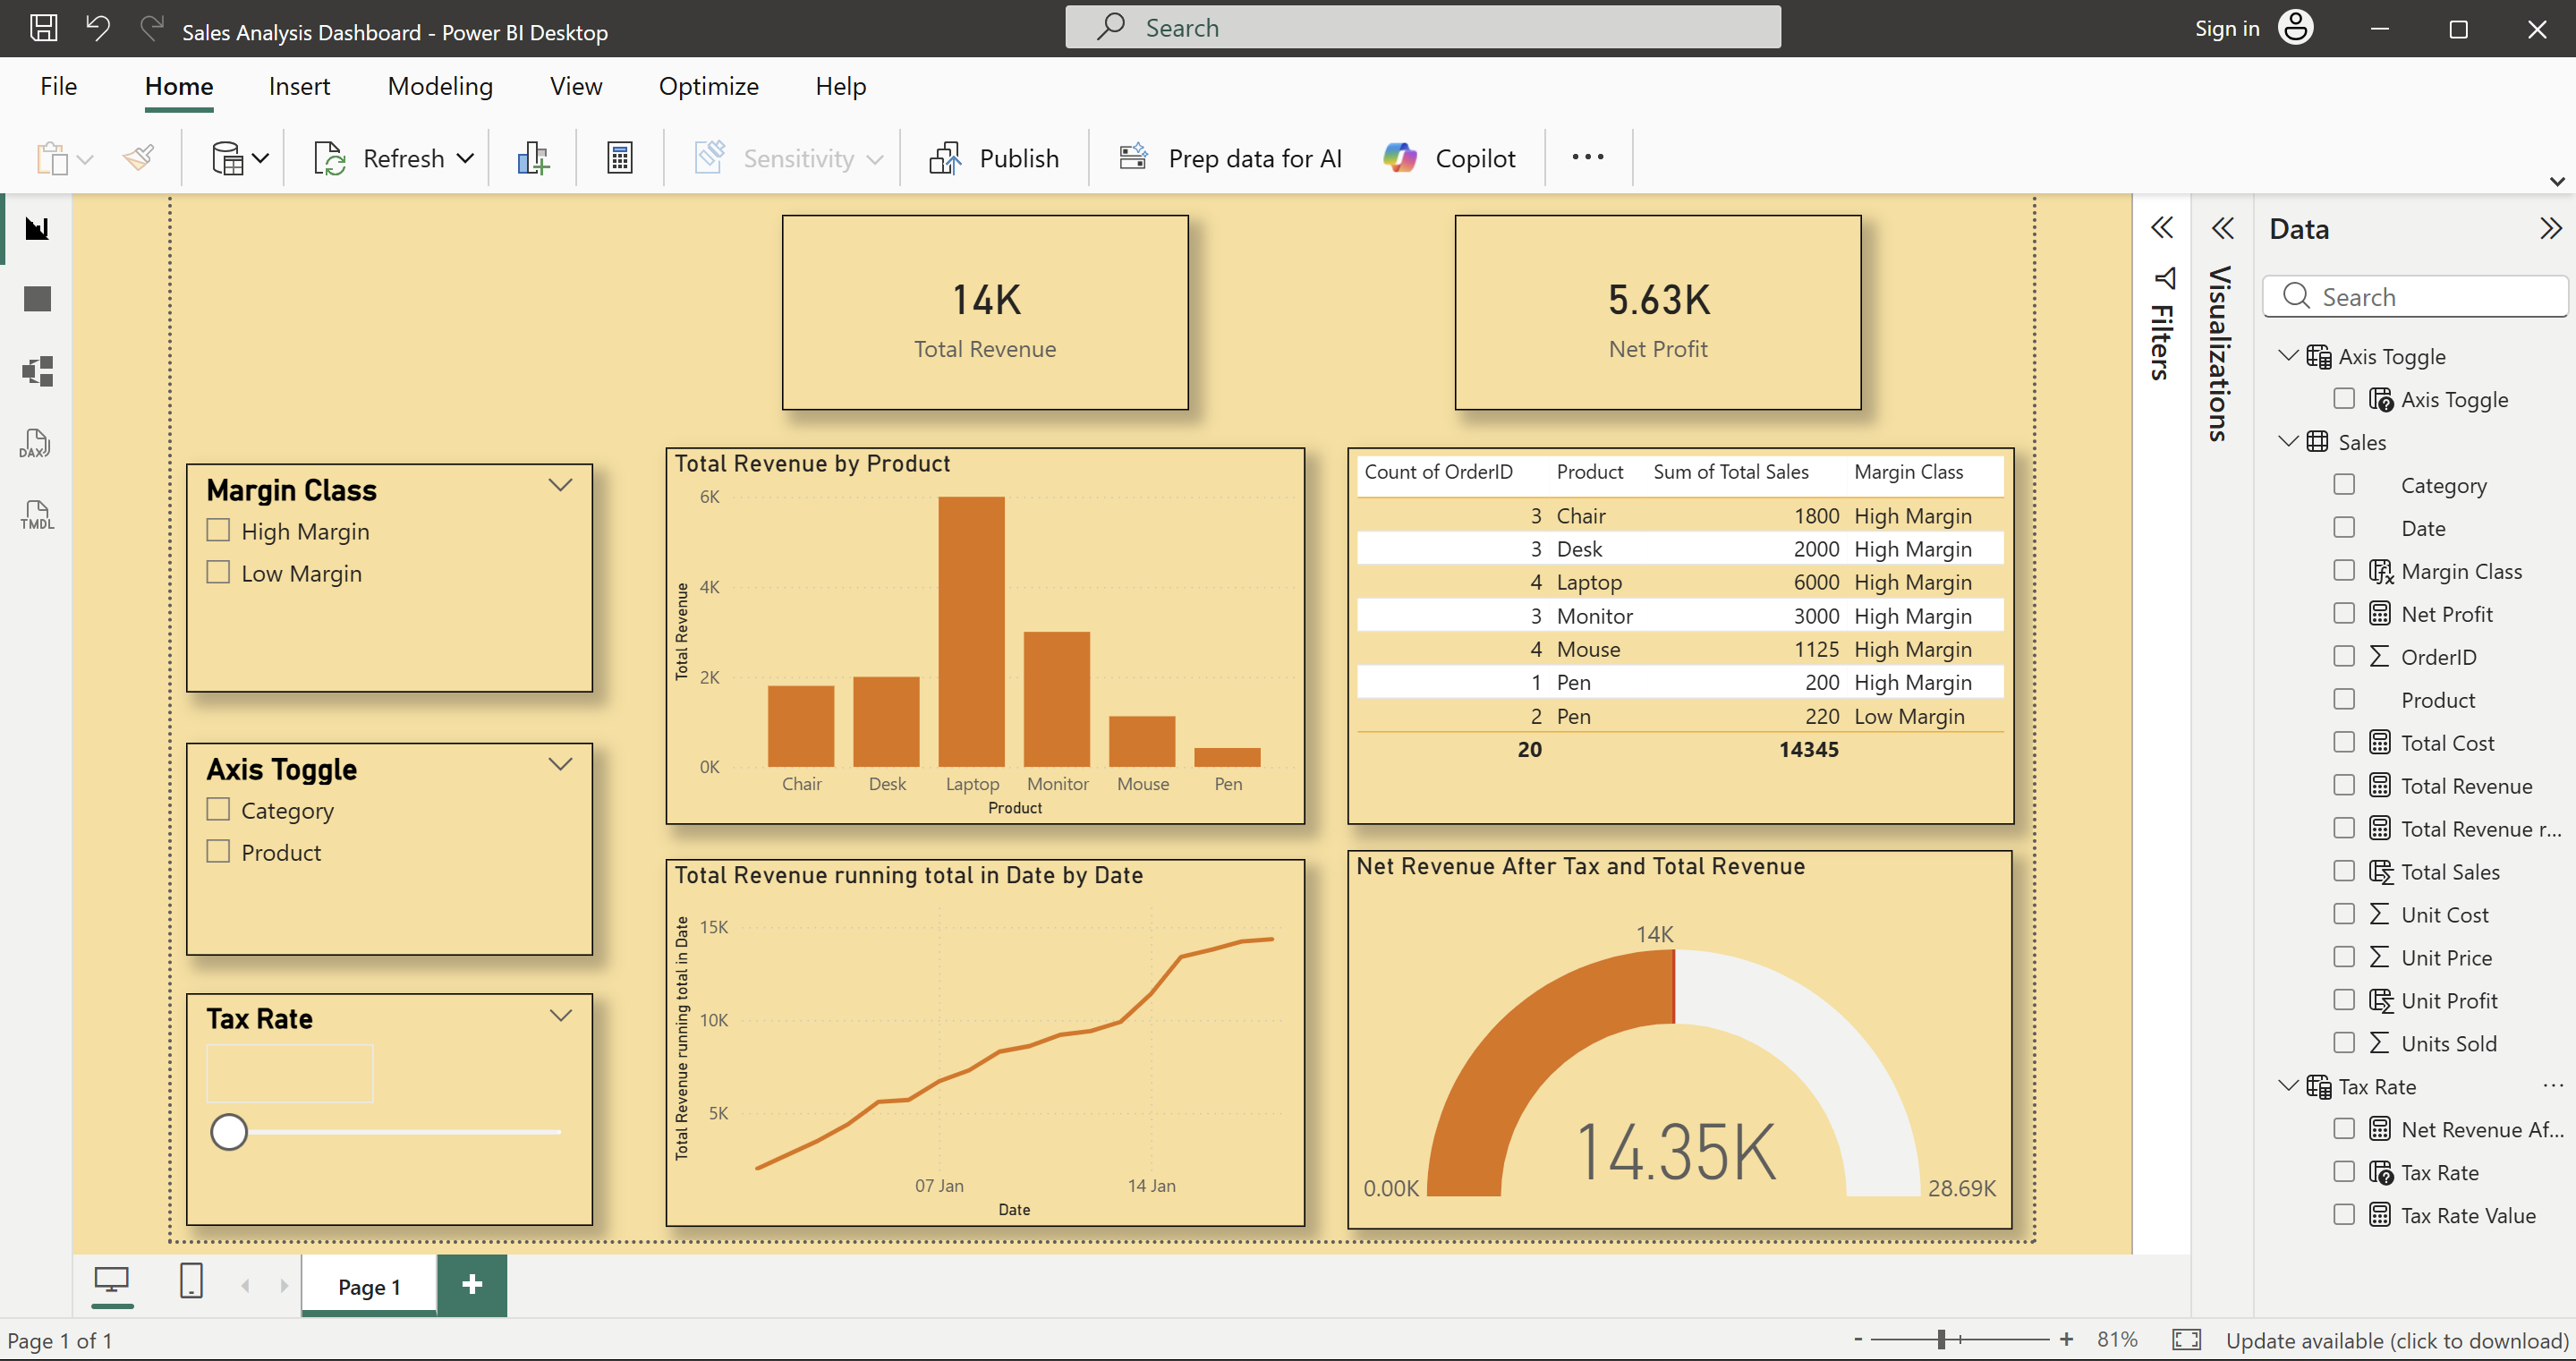

The page's visual inventory and layout, read from the dashboard file:
{"tool":"powerbi","page":{"name":"Page 1","canvas":[1280,720],"ordinal":0},"visuals":[{"type":"slicer","fields":{"Values":["Axis Toggle .Axis Toggle "]},"box":[9.4,378.2,279.9,146.7],"z":0},{"type":"slicer","fields":{"Values":["Tax Rate.Tax Rate"]},"box":[9.4,550.4,279.9,160.1],"z":1000},{"type":"card","fields":{"Values":["Sales.Total Revenue"]},"box":[419.9,14.8,279.9,134.6],"z":2000},{"type":"card","fields":{"Values":["Sales.Net Profit"]},"box":[882.8,14.8,279.9,134.6],"z":3000},{"type":"clusteredColumnChart","fields":{"Category":["Sales.Product"],"Y":["Sales.Total Revenue"]},"box":[339.1,175,440.1,259.7],"z":4000},{"type":"lineChart","fields":{"Category":["Sales.Date"],"Y":["Sales.Total Revenue running total in Date"]},"box":[339.1,457.6,440.1,253],"z":5000},{"type":"gauge","fields":{"Y":["Tax Rate.Net Revenue After Tax"],"TargetValue":["Sales.Total Revenue"]},"box":[808.8,452.2,457.6,261.1],"z":6000},{"type":"slicer","fields":{"Values":["Sales.Margin Class"]},"box":[9.4,185.7,279.9,157.5],"z":7000},{"type":"tableEx","fields":{"Values":["CountNonNull(Sales.OrderID)","Sales.Product","Sum(Sales.Total Sales)","Sales.Margin Class"]},"box":[808.8,175,458.9,259.7],"z":8000}]}

Visuals, with their boxes on the page's 1280x720 design canvas (x1, y1, x2, y2). These are canvas units, not pixel positions in the 2576x1361 screenshot, which may show the page scaled, cropped or inside an application window:
slicer - Axis Toggle .Axis Toggle : <region>9, 378, 289, 525</region>
slicer - Tax Rate.Tax Rate: <region>9, 550, 289, 710</region>
card - Sales.Total Revenue: <region>420, 15, 700, 149</region>
card - Sales.Net Profit: <region>883, 15, 1163, 149</region>
clusteredColumnChart - Sales.Product x Sales.Total Revenue: <region>339, 175, 779, 435</region>
lineChart - Sales.Date x Sales.Total Revenue running total in Date: <region>339, 458, 779, 711</region>
gauge - Tax Rate.Net Revenue After Tax x Sales.Total Revenue: <region>809, 452, 1266, 713</region>
slicer - Sales.Margin Class: <region>9, 186, 289, 343</region>
tableEx - CountNonNull(Sales.OrderID) x Sales.Product: <region>809, 175, 1268, 435</region>
